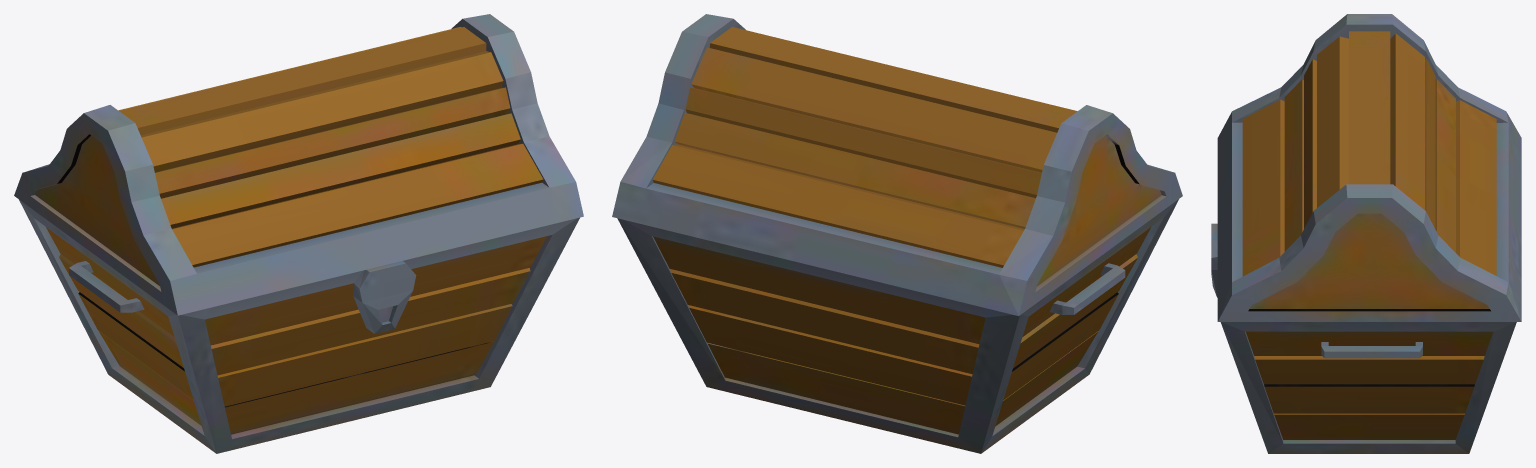
Rendered from treasure_chest.glb.
3 renders of one model, left to right at view 1: azimuth 30°, elevation 25°; view 2: azimuth 150°, elevation 25°; view 3: azimuth 270°, elevation 25°, orthographic. The views are drawn at different scales.
Parts seen in each view (by area): view 1: treasure_chest; view 2: treasure_chest; view 3: treasure_chest.
Part boxes in pixels (box(x1,y1,x2,y2)): treasure_chest: box(14, 14, 583, 453); treasure_chest: box(612, 14, 1182, 453); treasure_chest: box(1211, 14, 1521, 453).
Size of the model in its own units: 0.6762 by 0.4923 by 0.4823.
1 material, 1 textured.
